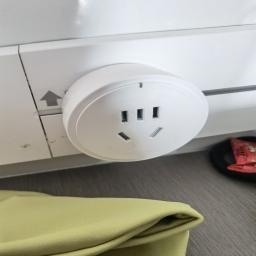outlet: (47, 57, 215, 164)
